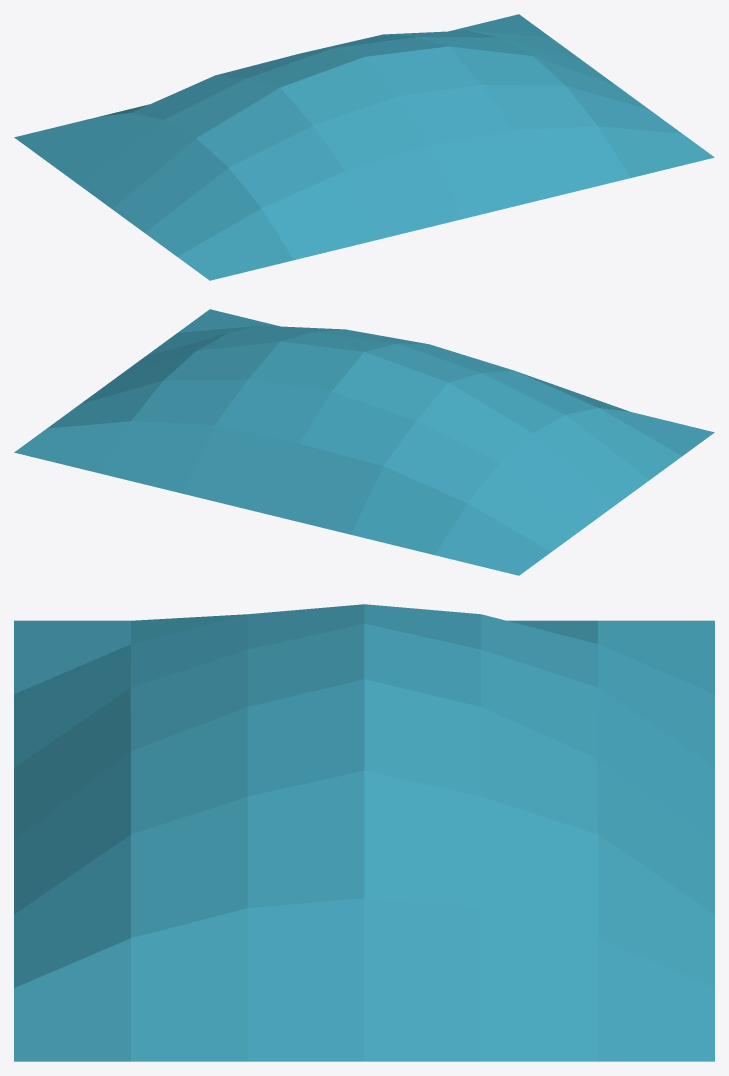
Rendered from SM_snow_dune_01.fbx.
The picture shows the model from 3 angles, top to bottom: view 1: azimuth 30°, elevation 25°; view 2: azimuth 150°, elevation 25°; view 3: azimuth 270°, elevation 25°; orthographic projection. The views are drawn at different scales.
Parts seen in each view (by area): view 1: snow_dune_01; view 2: snow_dune_01; view 3: snow_dune_01.
Boxes of the visible parts, bbox=[...] form: snow_dune_01: bbox=[14, 14, 714, 280]; snow_dune_01: bbox=[14, 309, 714, 575]; snow_dune_01: bbox=[14, 604, 714, 1061].
Size of the model in its own units: 10833 by 1856 by 7278.
